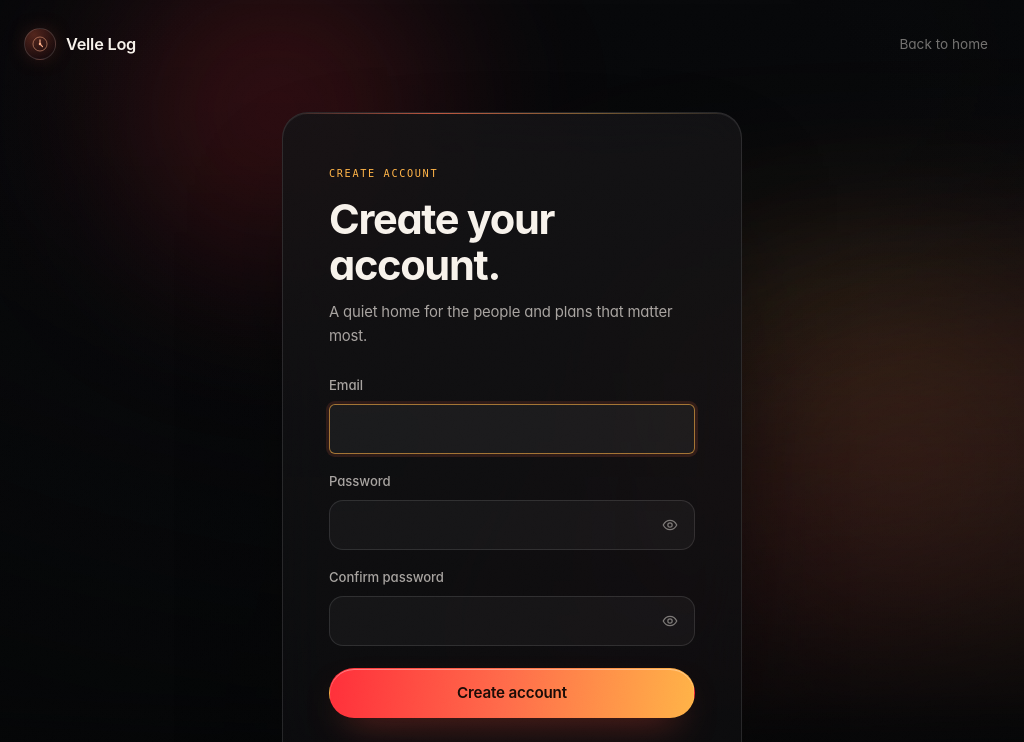
Test case: SignupPage › shows required field validation before submitting
This screenshot has width=1024, height=742.
Expected: the heading "Create your account." is shown, [329,194,554,290]
Step 1. Click the button "Create account" → click(512, 692), box [329,668,695,718]
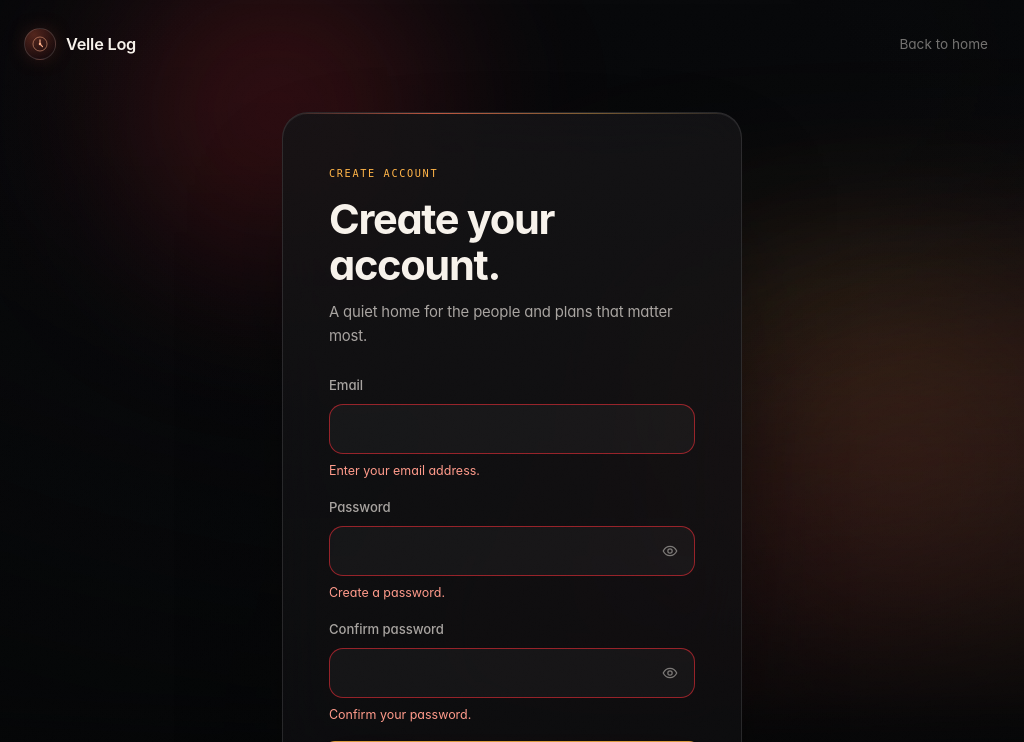
Result: the text "Enter your email address." is shown at [329,463,480,478]
Result: the text "Create a password." is shown at [329,585,445,600]
Result: the text "Confirm your password." is shown at [329,707,471,722]
